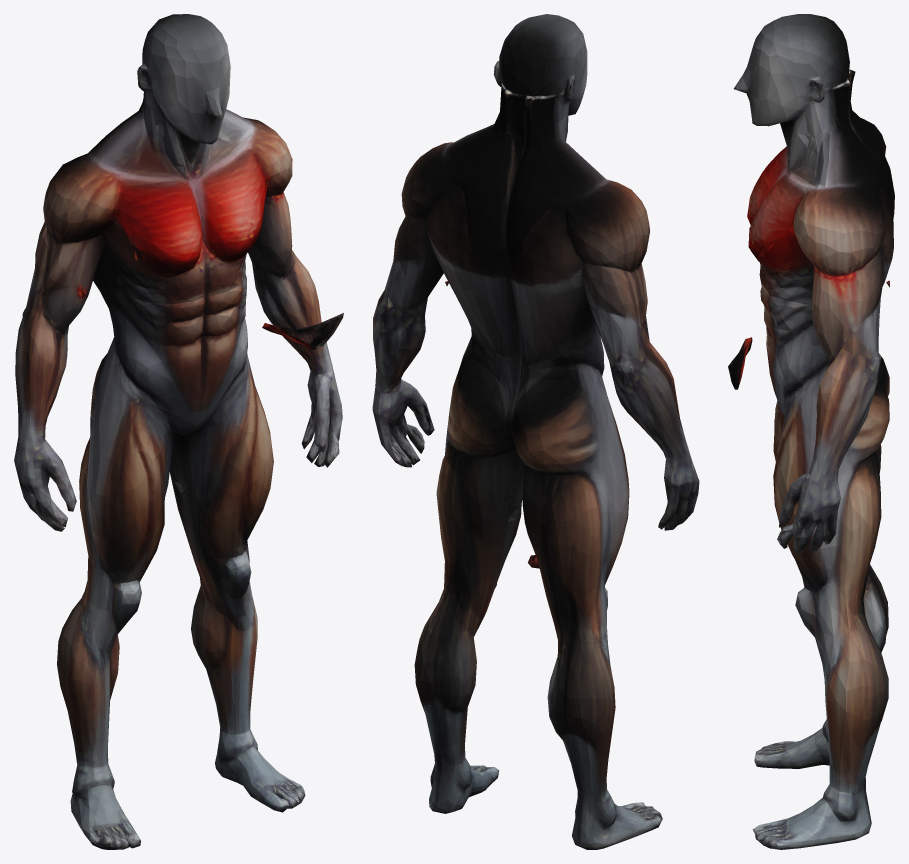
3 renders of one model, left to right at view 1: azimuth 30°, elevation 25°; view 2: azimuth 150°, elevation 25°; view 3: azimuth 270°, elevation 25°, orthographic.
Parts seen in each view (by area): view 1: world; view 2: world; view 3: world.
Part boxes in pixels (x1,y1,x2,y2): world: (14,14,343,849); world: (372,14,699,849); world: (728,14,894,849).
Size of the model in its own units: 0.4208 by 1 by 0.1936.
Materials: 1 (1 with a texture image).
